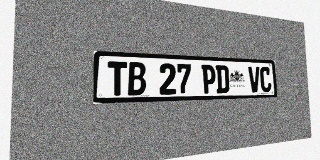2: (159, 63, 176, 95)
7: (176, 64, 192, 94)
B: (128, 62, 146, 95)
C: (260, 67, 272, 92)
D: (216, 65, 229, 93)
P: (201, 65, 216, 94)
T: (108, 61, 127, 96)
V: (248, 66, 260, 93)
